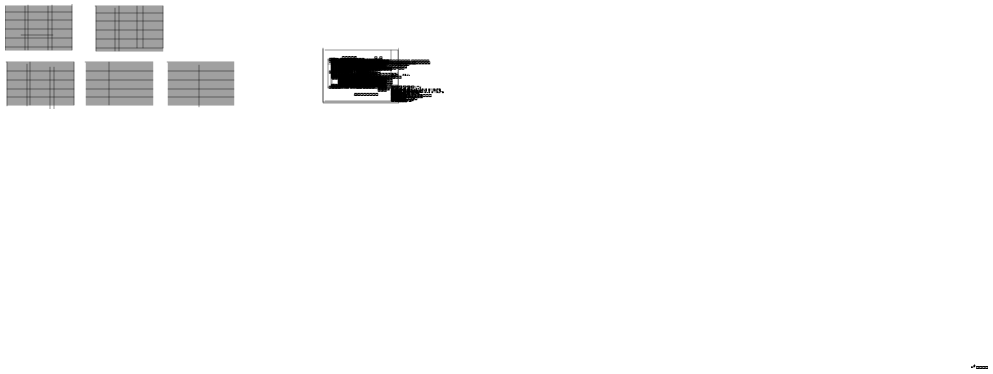corridor: (823, 128, 838, 135)
exit: (823, 144, 824, 145)
room: (973, 120, 990, 212), (973, 88, 990, 120), (823, 86, 838, 112), (973, 78, 990, 88), (973, 69, 990, 78), (815, 163, 820, 176)
